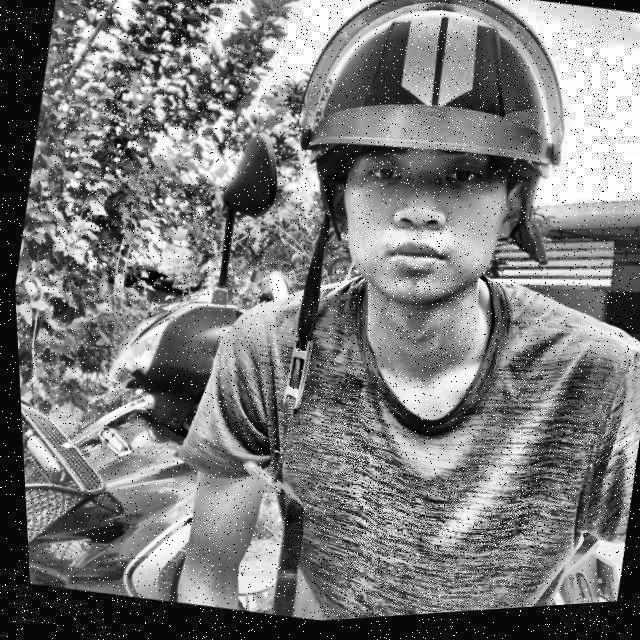Helmet: (284, 0, 580, 348)
